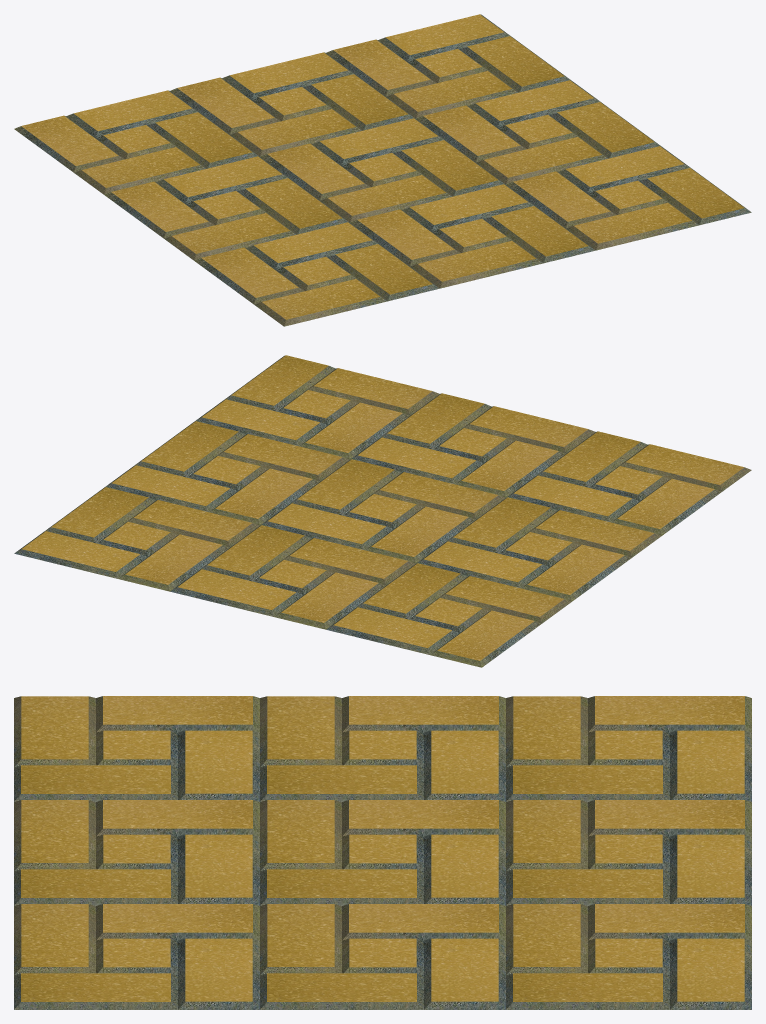
Rendered from Chão9tile.fbx.
3 views of the same model, one above another, from view 1: azimuth 30°, elevation 25°; view 2: azimuth 150°, elevation 25°; view 3: azimuth 270°, elevation 25° (orthographic). The views are drawn at different scales.
Parts seen in each view (by area): view 1: Plano.004; view 2: Plano.004; view 3: Plano.004.
Part boxes in pixels (x1,y1,x2,y2): Plano.004: [14, 14, 751, 326]; Plano.004: [14, 355, 751, 667]; Plano.004: [14, 696, 751, 1009].
Size of the model in its own units: 8775 by 66.58 by 8775.
